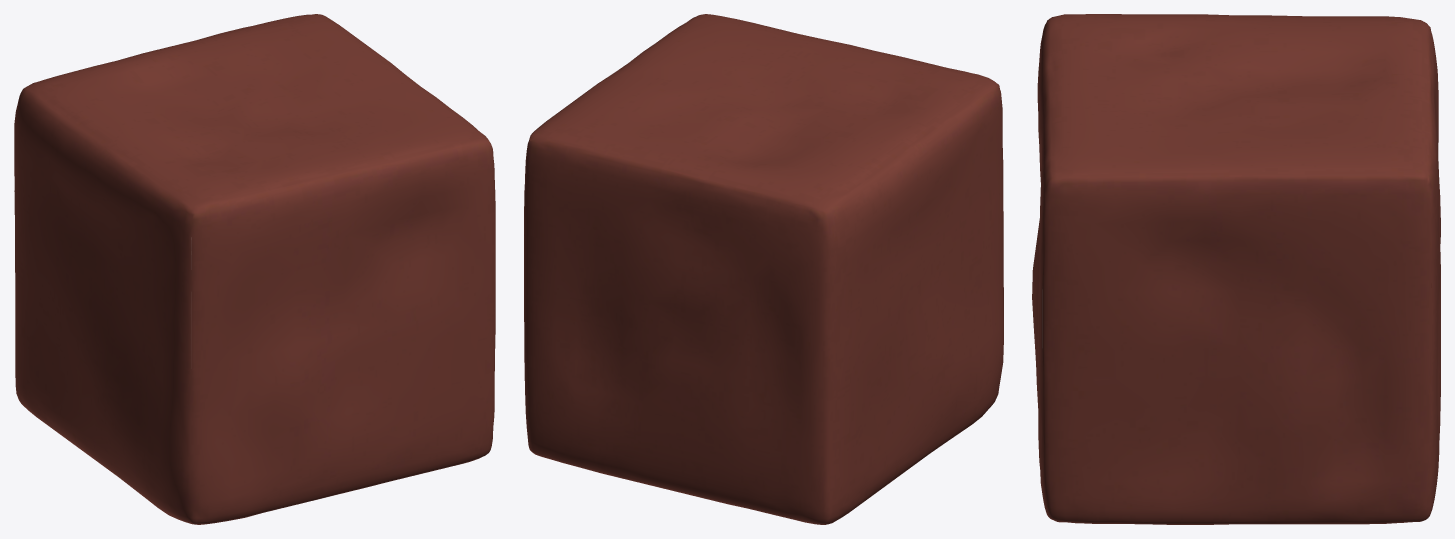
Rendered from optimized_glb.glb.
3 views of the same model, side by side, from view 1: azimuth 30°, elevation 25°; view 2: azimuth 150°, elevation 25°; view 3: azimuth 270°, elevation 25° (orthographic). The views are drawn at different scales.
Visible parts, largest first — view 1: Pork Blood Curd; view 2: Pork Blood Curd; view 3: Pork Blood Curd.
Boxes of the visible parts, bbox=[...] form: Pork Blood Curd: bbox=[14, 14, 495, 524]; Pork Blood Curd: bbox=[524, 14, 1003, 524]; Pork Blood Curd: bbox=[1032, 14, 1440, 524].
Bounding box in the file's own units: 0.9941 × 0.9746 × 0.998.
Materials: 1 (1 with a texture image).
